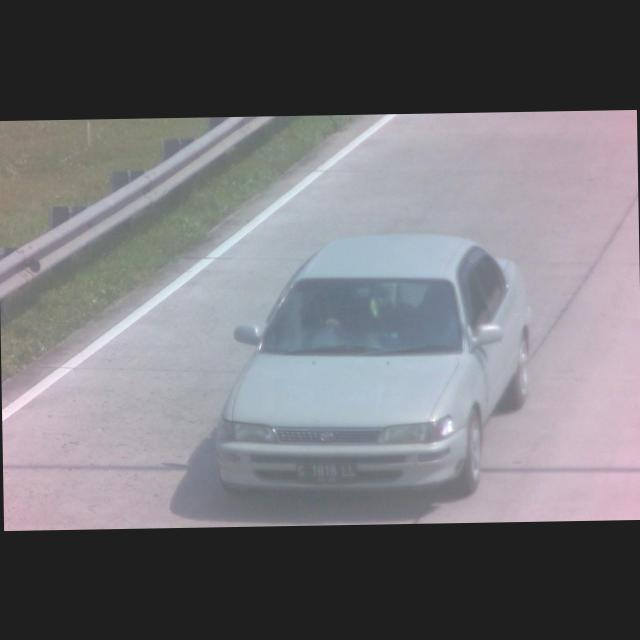plate: (294, 462, 359, 486)
